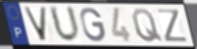4: (111, 6, 133, 45)
G: (79, 7, 108, 44)
Q: (130, 7, 165, 43)
U: (48, 5, 82, 45)
V: (22, 6, 49, 43)
Z: (156, 8, 190, 43)
